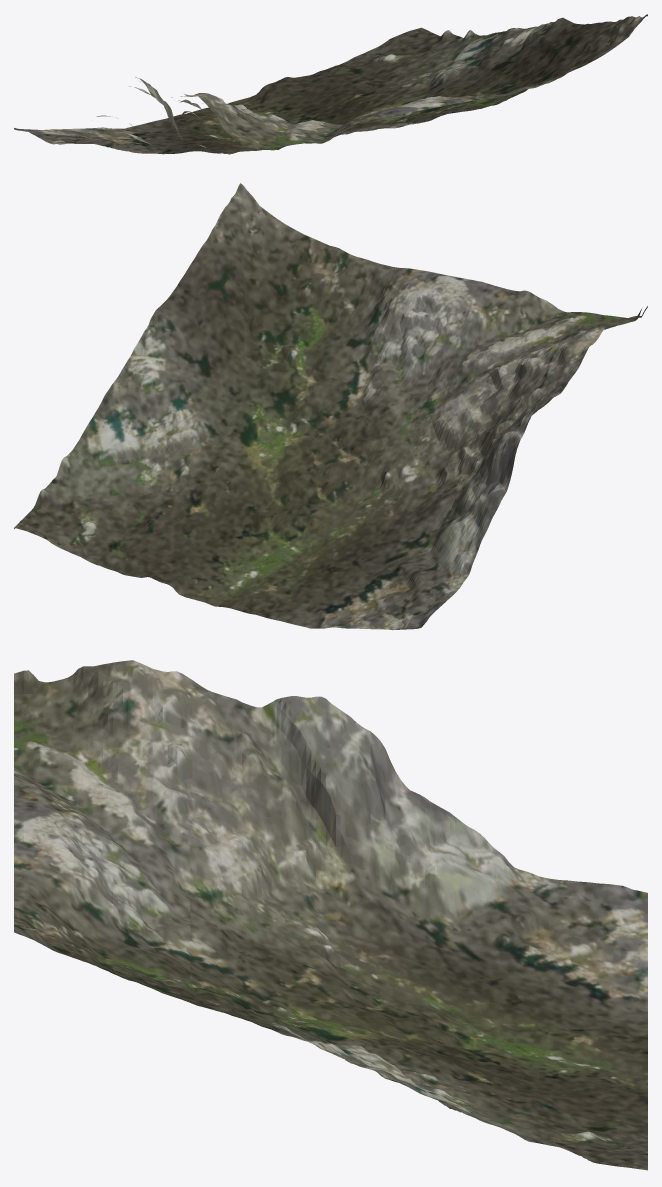
3 renders of one model, top to bottom at view 1: azimuth 30°, elevation 25°; view 2: azimuth 150°, elevation 25°; view 3: azimuth 270°, elevation 25°, orthographic. The views are drawn at different scales.
Size of the model in its own units: 250 by 123 by 241.
1 material, 1 textured.
